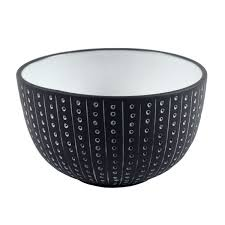bowl: (13, 45, 210, 192)
